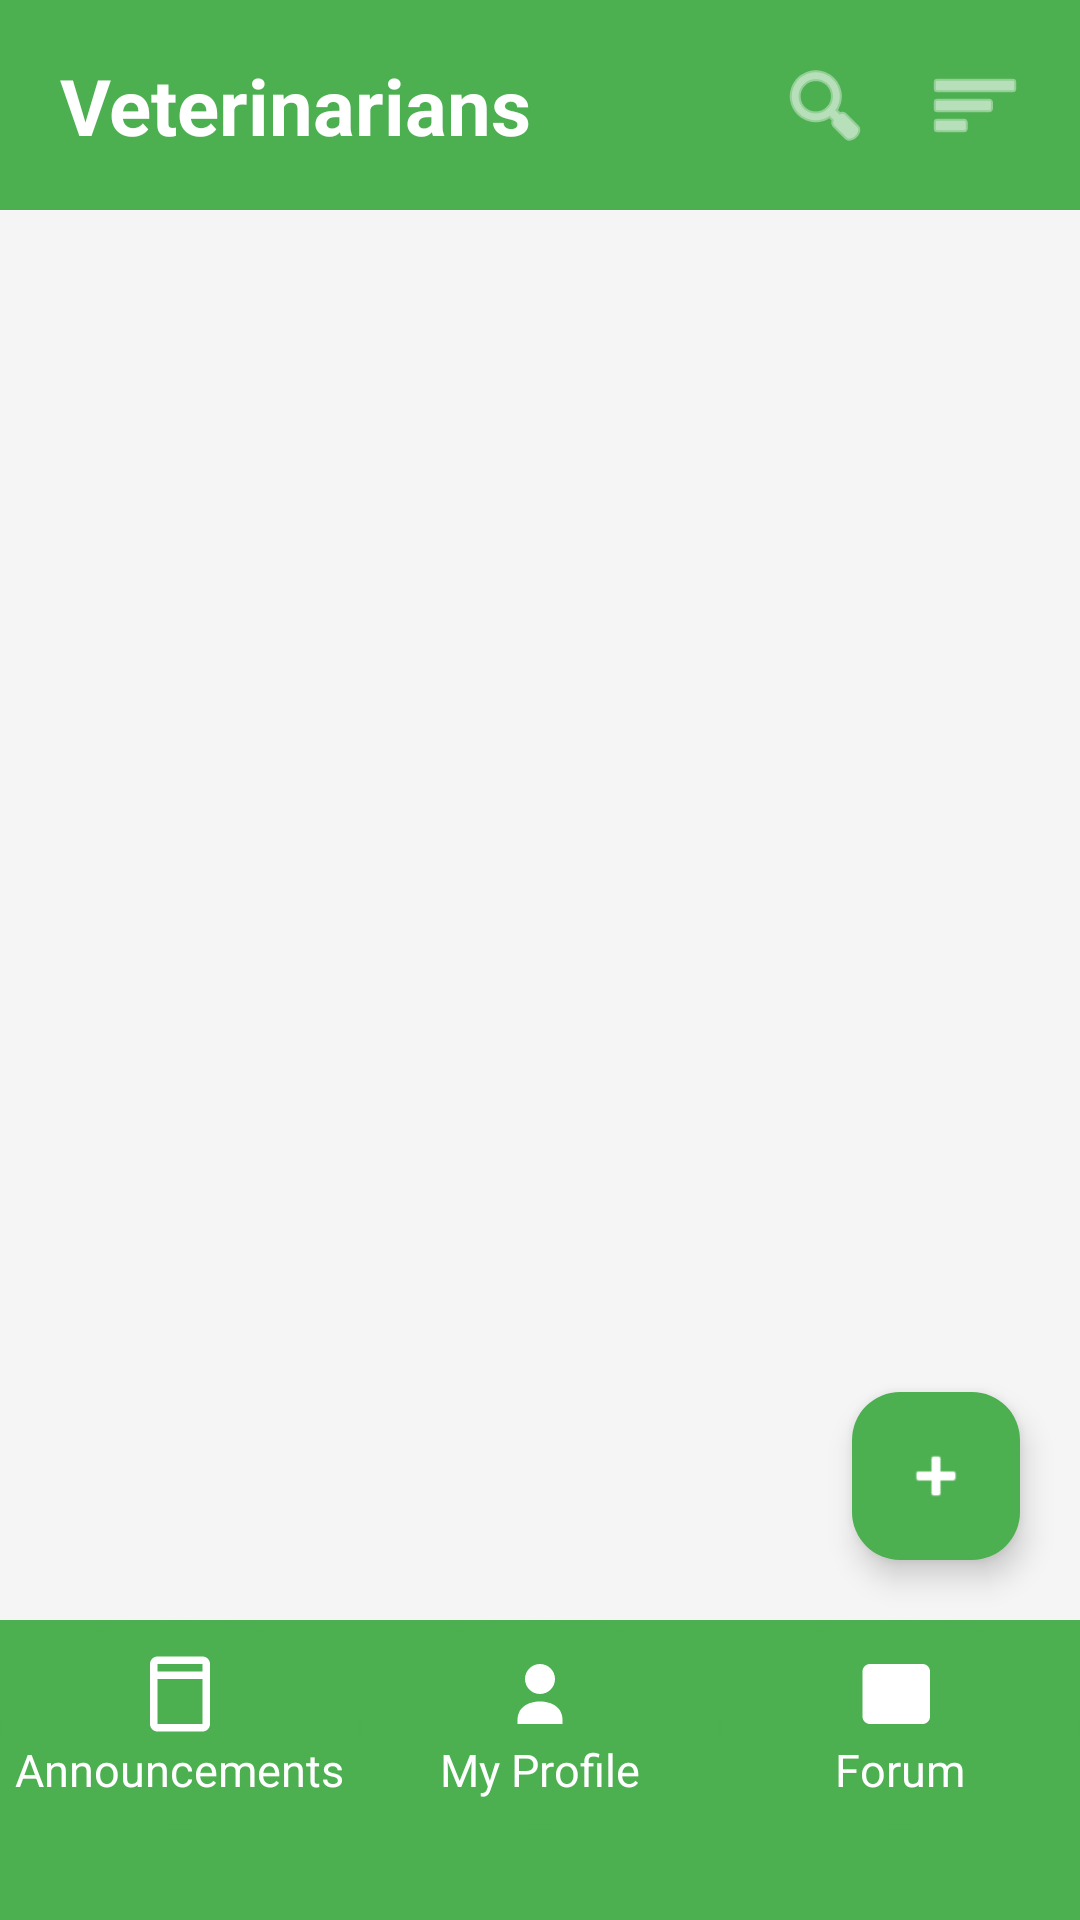

Point at icon controls on the screen. Image size 1080w x 1920h, points as (x=x, y=y).
add: (x=936, y=1476)
search: (x=825, y=105)
sort by size: (x=975, y=105)
